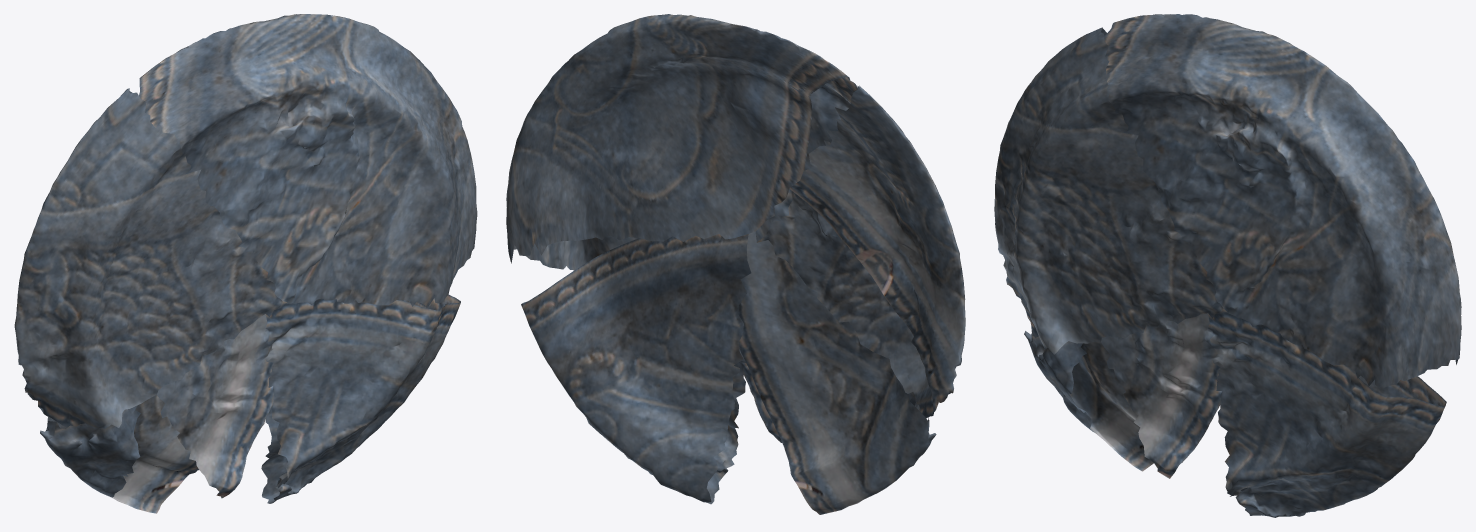
The model's file is 05_blue_potter_39.obj.
3 renders of one model, left to right at view 1: azimuth 30°, elevation 25°; view 2: azimuth 150°, elevation 25°; view 3: azimuth 330°, elevation 25°, orthographic.
Visible parts, largest first — view 1: _blue_potter_39:polySurface1 group; view 2: _blue_potter_39:polySurface1 group; view 3: _blue_potter_39:polySurface1 group.
Boxes of the visible parts, left/top/right/bottom form: _blue_potter_39:polySurface1 group: left=14, top=14, right=477, bottom=513; _blue_potter_39:polySurface1 group: left=506, top=14, right=965, bottom=514; _blue_potter_39:polySurface1 group: left=994, top=14, right=1461, bottom=517.
Bounding box in the file's own units: 8.65 × 8.74 × 1.09.
